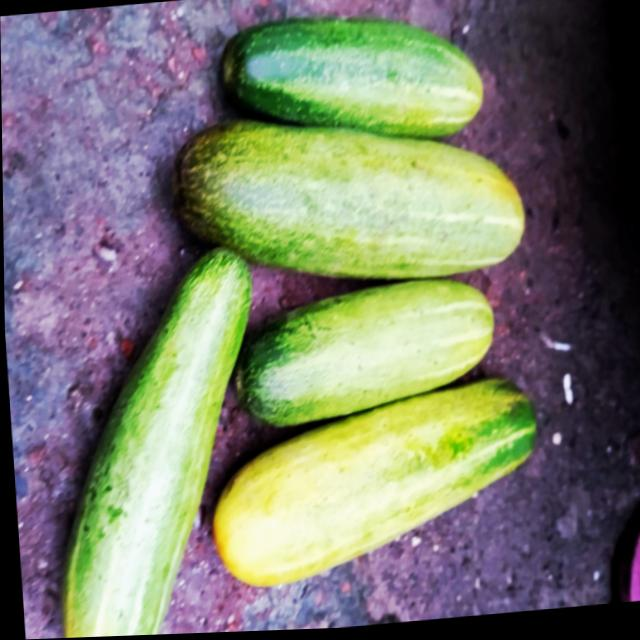Fresh-Cucumber: (32, 243, 280, 639), (198, 376, 549, 605), (166, 95, 530, 306), (226, 272, 502, 439), (213, 4, 488, 162)
